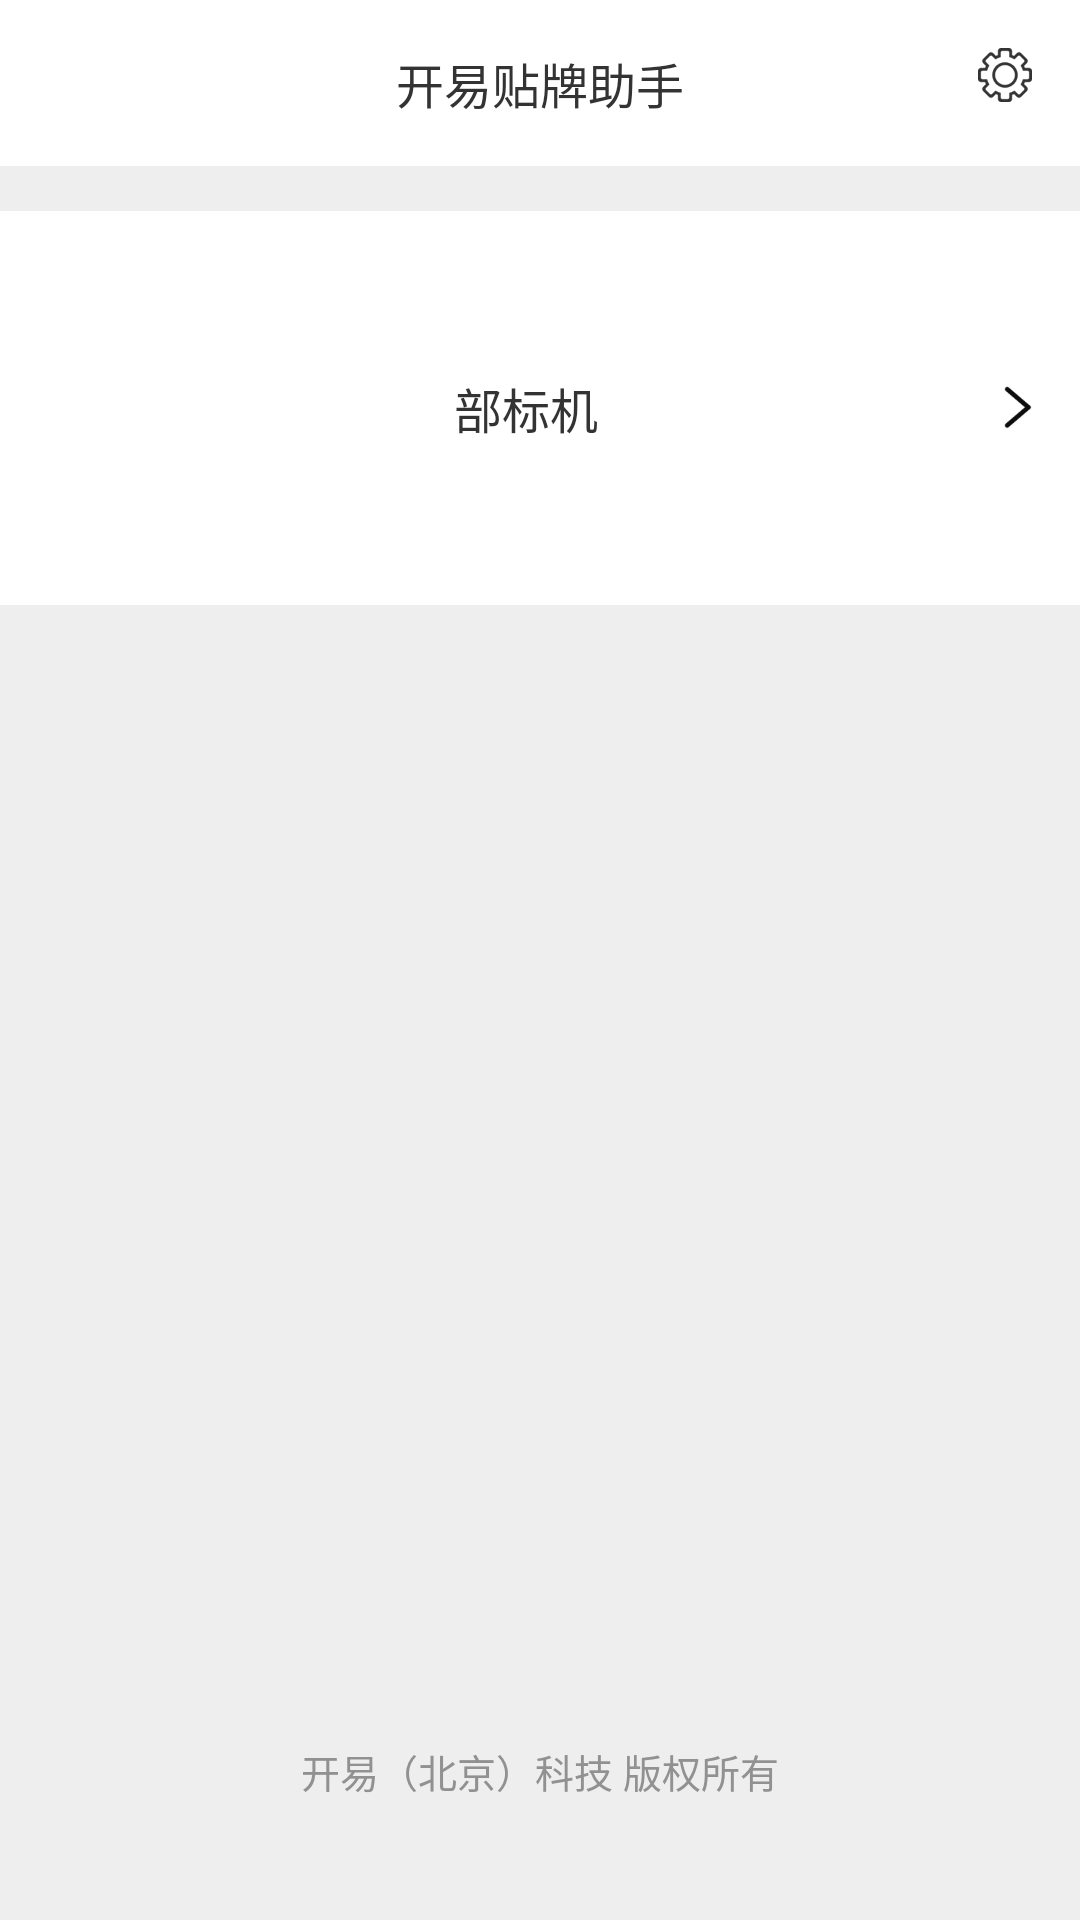

Screen size 1080px×1920px. Icon name, then its center in pixels as (x,y):
settings: (1005,75)
